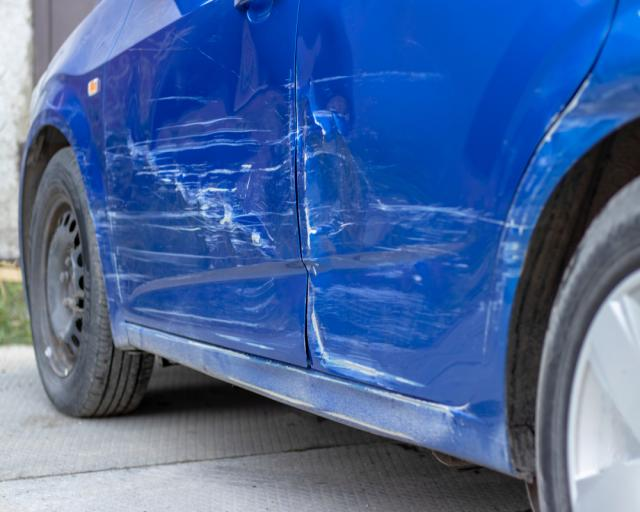dent: (295, 14, 498, 378), (102, 15, 303, 353)
